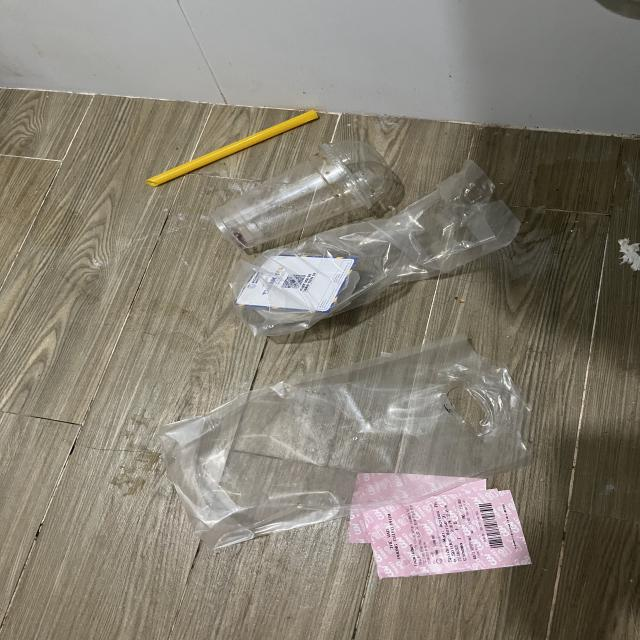bag: (157, 334, 534, 551)
drinking straw: (144, 110, 318, 187)
paper: (349, 472, 533, 580)
plastic glass: (210, 140, 393, 250)
trash bag: (232, 160, 521, 338)
